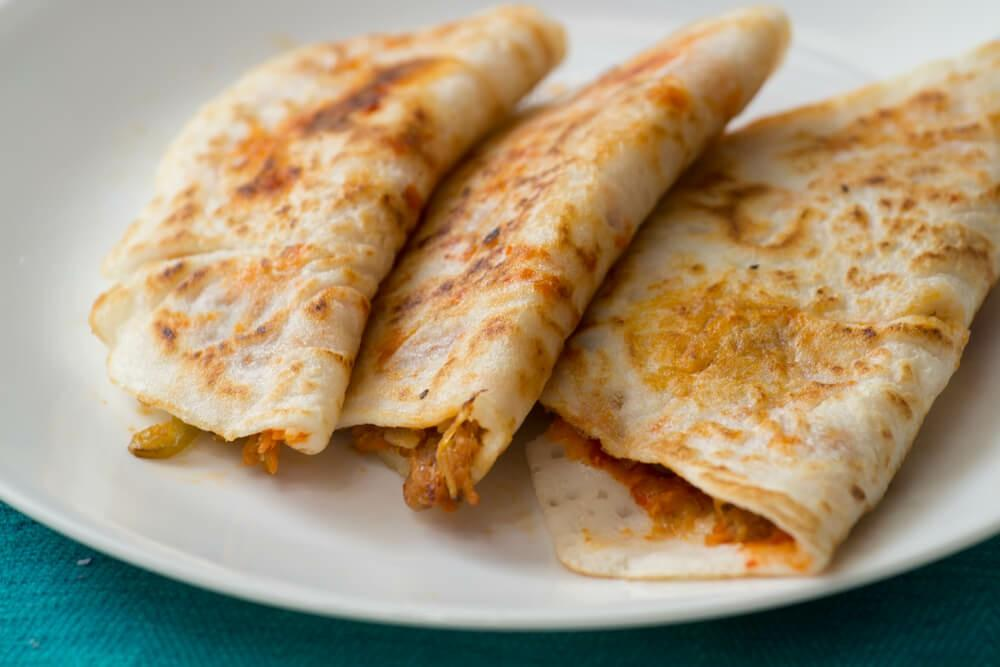Dosa: (526, 40, 1000, 582), (335, 12, 791, 509), (89, 7, 570, 475)
